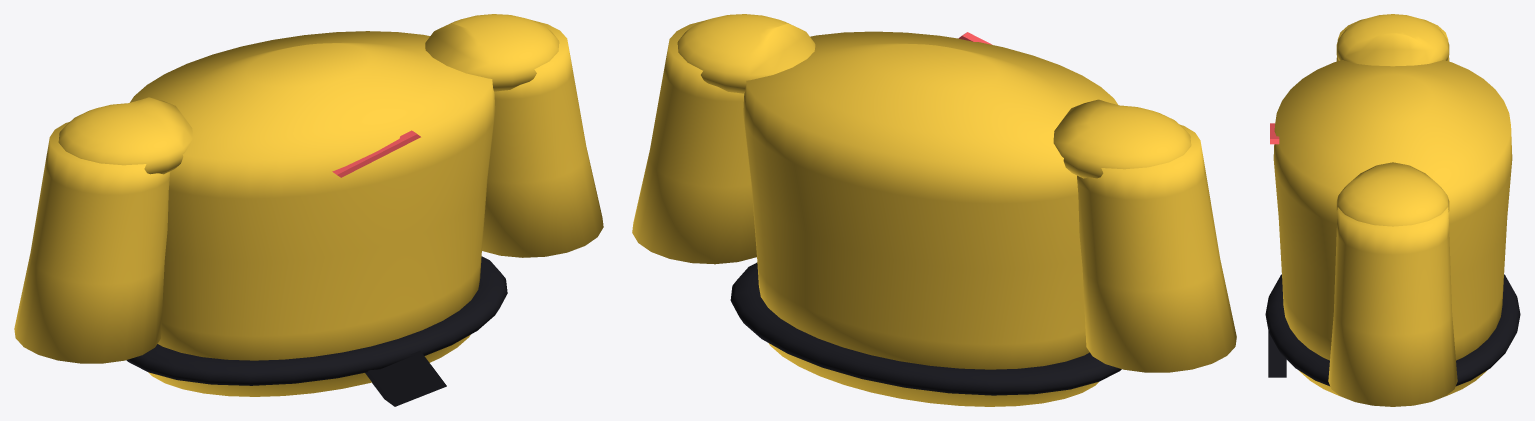
The model's file is top_fun_0.glb.
The picture shows the model from 3 angles, left to right: view 1: azimuth 30°, elevation 25°; view 2: azimuth 150°, elevation 25°; view 3: azimuth 270°, elevation 25°; orthographic projection. The views are drawn at different scales.
Size of the model in its own units: 0.6992 by 0.3454 by 0.3092.
